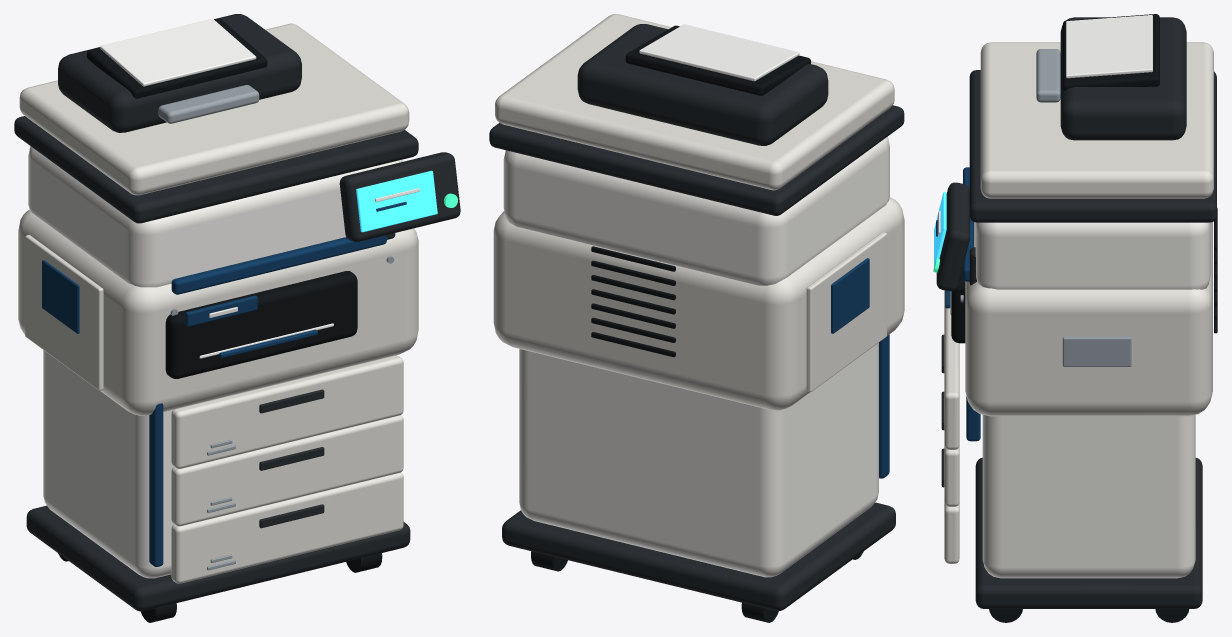
File: multifunction-printer.glb
3 renders of one model, left to right at view 1: azimuth 30°, elevation 25°; view 2: azimuth 150°, elevation 25°; view 3: azimuth 270°, elevation 25°, orthographic. The views are drawn at different scales.
Visible parts, largest first — view 1: MSBM professional multifunction printer; view 2: MSBM professional multifunction printer; view 3: MSBM professional multifunction printer.
Boxes of the visible parts, x1,y1,x2,y2 form: MSBM professional multifunction printer: [14, 14, 460, 622]; MSBM professional multifunction printer: [489, 14, 904, 622]; MSBM professional multifunction printer: [933, 14, 1217, 622].
Bounding box in the file's own units: 1.82 × 2.78 × 1.4.
